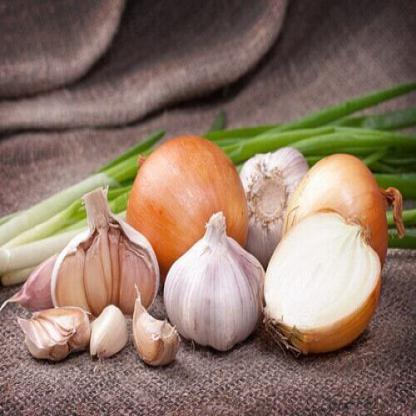onion: (286, 171, 390, 341), (121, 140, 253, 229)
